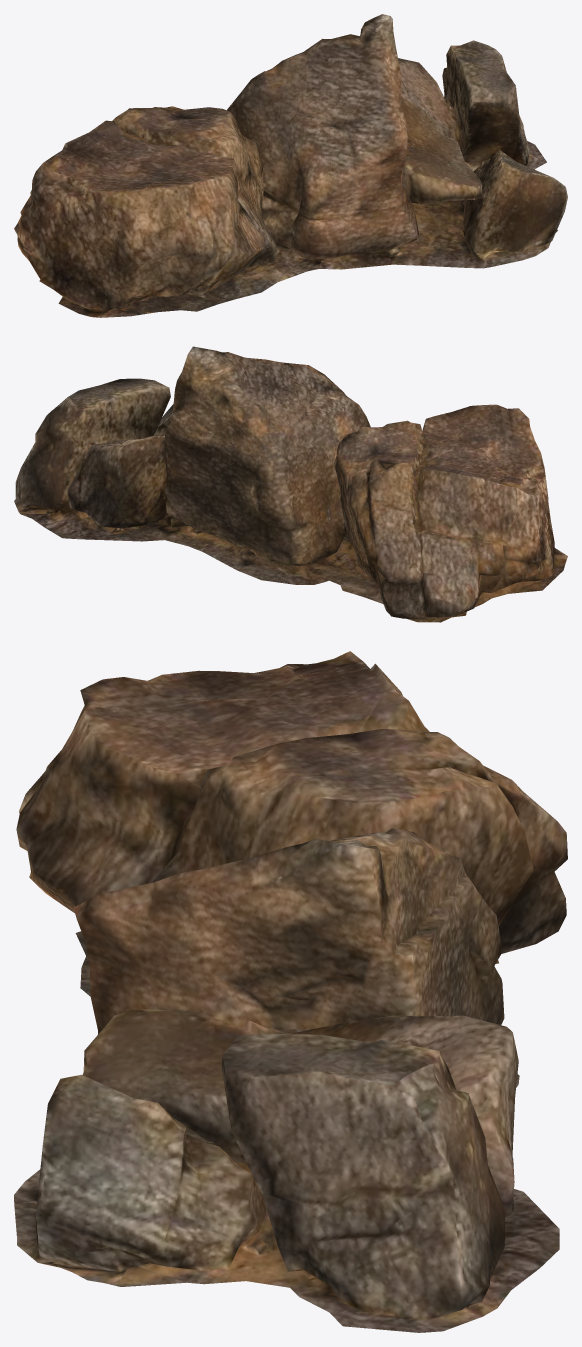
File: namaqualand_boulder_02.glb
The picture shows the model from 3 angles, top to bottom: view 1: azimuth 30°, elevation 25°; view 2: azimuth 150°, elevation 25°; view 3: azimuth 270°, elevation 25°; orthographic projection. The views are drawn at different scales.
Visible parts, largest first — view 1: boulder_02; view 2: boulder_02; view 3: boulder_02.
Boxes of the visible parts, bbox=[...] form: boulder_02: bbox=[14, 14, 567, 317]; boulder_02: bbox=[14, 346, 567, 622]; boulder_02: bbox=[14, 651, 567, 1332].
Size of the model in its own units: 2.52 by 0.8787 by 1.23.
1 material, 1 textured.
